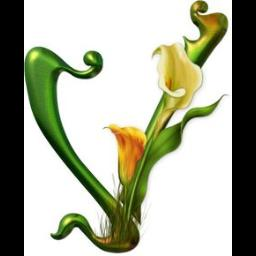v: (26, 0, 232, 256)
